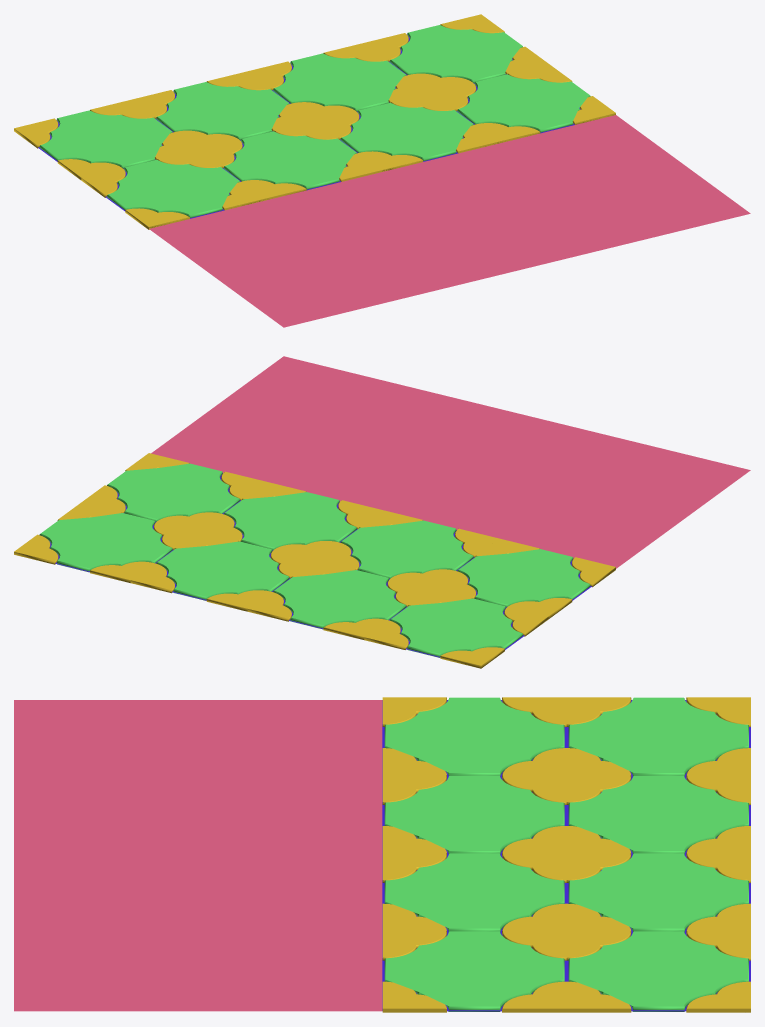
The model's file is MarbleTile_high.fbx.
3 renders of one model, top to bottom at view 1: azimuth 30°, elevation 25°; view 2: azimuth 150°, elevation 25°; view 3: azimuth 270°, elevation 25°, orthographic. The views are drawn at different scales.
Visible parts, largest first — view 1: Plane.031; view 2: Plane.031; view 3: Plane.031.
Part boxes in pixels (box(x1,y1,x2,y2)): Plane.031: box(14, 14, 750, 327); Plane.031: box(14, 356, 750, 668); Plane.031: box(14, 697, 750, 1012).
Bounding box in the file's own units: 200 × 1.48 × 200.
